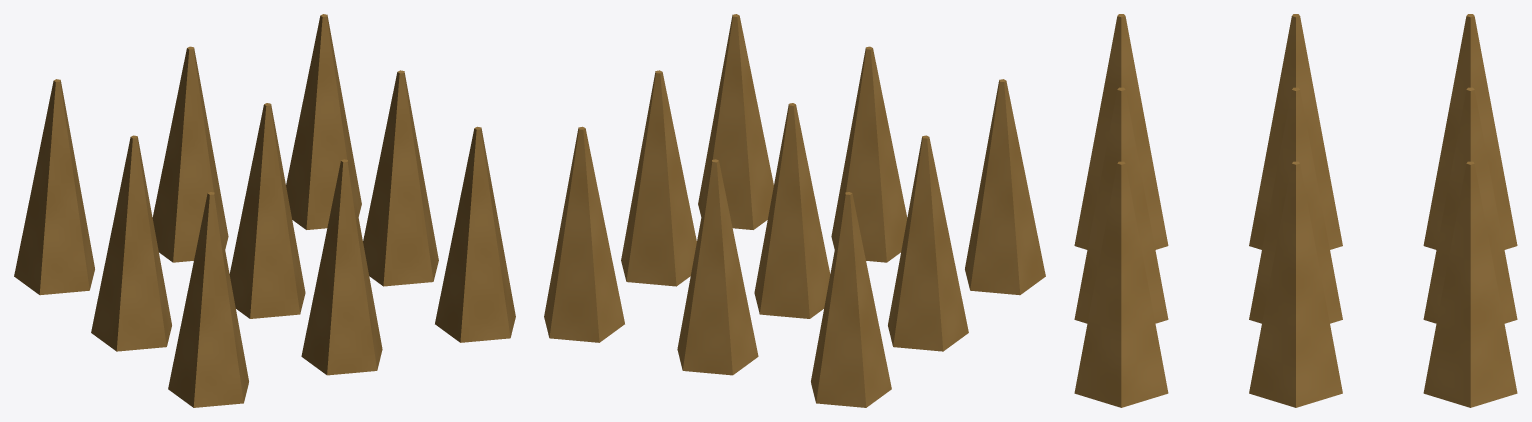
The model's file is spikes.obj.
The picture shows the model from 3 angles, left to right: view 1: azimuth 30°, elevation 25°; view 2: azimuth 150°, elevation 25°; view 3: azimuth 270°, elevation 25°; orthographic projection. The views are drawn at different scales.
Parts seen in each view (by area): view 1: spikes; view 2: spikes; view 3: spikes.
Boxes of the visible parts, bbox=[...] form: spikes: bbox=[14, 14, 515, 407]; spikes: bbox=[544, 14, 1045, 407]; spikes: bbox=[1074, 14, 1517, 407].
Size of the model in its own units: 1.51 by 0.85 by 1.52.
Materials: 1 (1 with a texture image).
